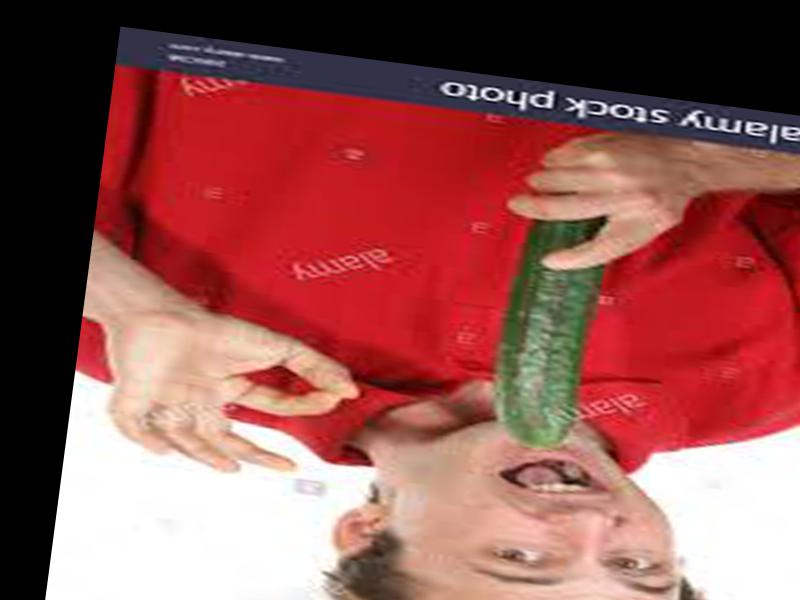Cucumber: (498, 211, 600, 450)
